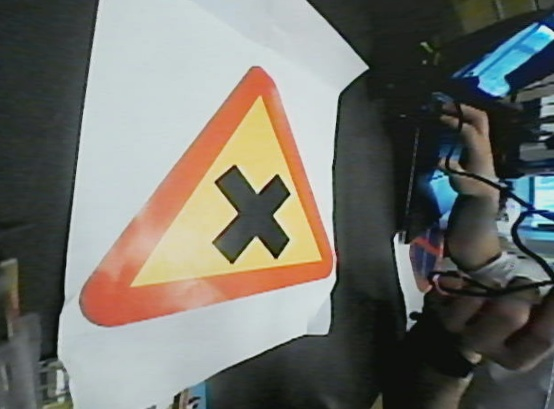junction: (61, 55, 376, 336)
